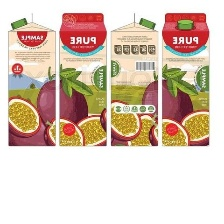carton: (2, 10, 57, 150), (160, 10, 212, 149), (57, 8, 108, 149), (109, 11, 159, 152)
